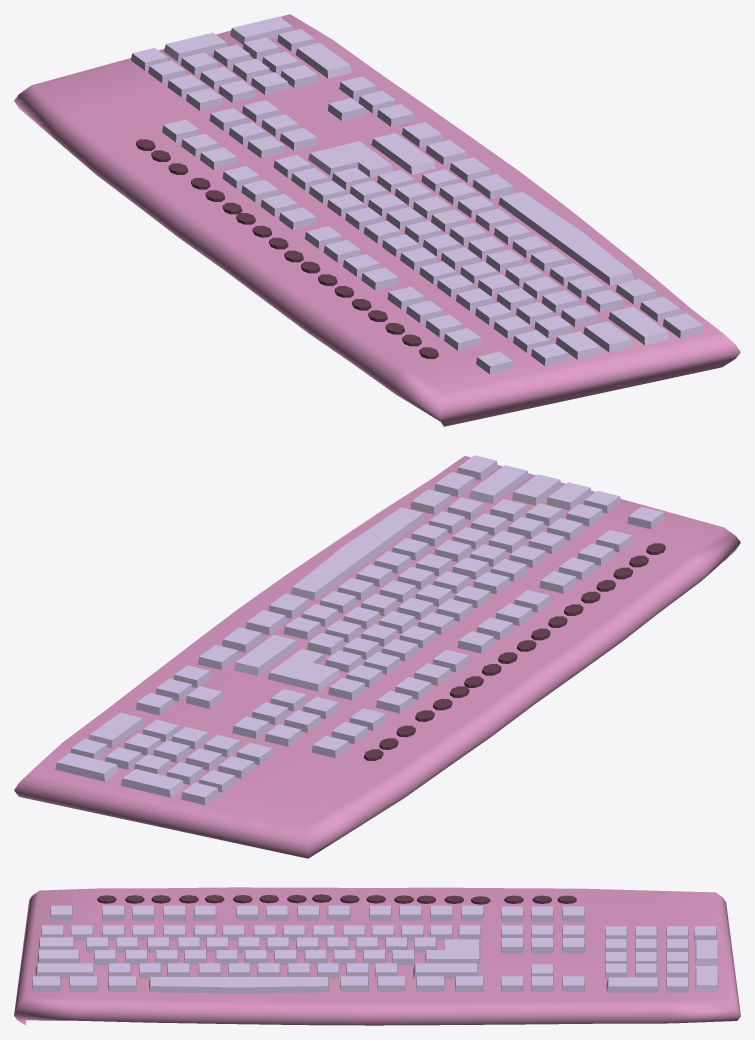
File: SM_Keyboard_KP.fbx
3 views of the same model, one above another, from view 1: azimuth 30°, elevation 25°; view 2: azimuth 150°, elevation 25°; view 3: azimuth 270°, elevation 25° (orthographic). The views are drawn at different scales.
Visible parts, largest first — view 1: Keyboard; view 2: Keyboard; view 3: Keyboard.
Boxes of the visible parts, x1,y1,x2,y2 form: Keyboard: (14, 14, 740, 426); Keyboard: (14, 455, 740, 858); Keyboard: (14, 887, 740, 1025).
Size of the model in its own units: 0.3743 by 0.048 by 0.926.
